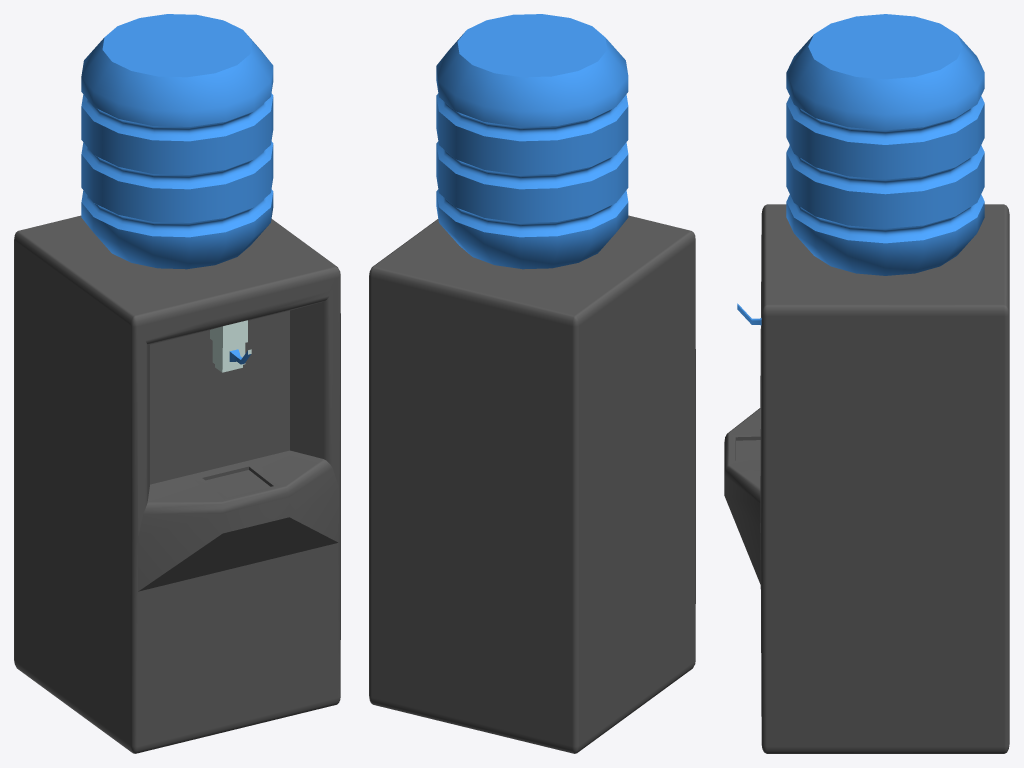
File: Water Cooler.fbx
The picture shows the model from 3 angles, left to right: view 1: azimuth 30°, elevation 25°; view 2: azimuth 150°, elevation 25°; view 3: azimuth 270°, elevation 25°; orthographic projection. The views are drawn at different scales.
Parts seen in each view (by area): view 1: Cube, Cylinder; view 2: Cube, Cylinder; view 3: Cube, Cylinder.
Boxes of the visible parts, x1,y1,x2,y2 form: Cube: [14, 215, 340, 753]; Cylinder: [81, 14, 273, 269]; Cube: [369, 215, 695, 753]; Cylinder: [436, 14, 628, 269]; Cube: [724, 204, 1009, 753]; Cylinder: [786, 14, 984, 275].
Bounding box in the file's own units: 40 × 117 × 46.
